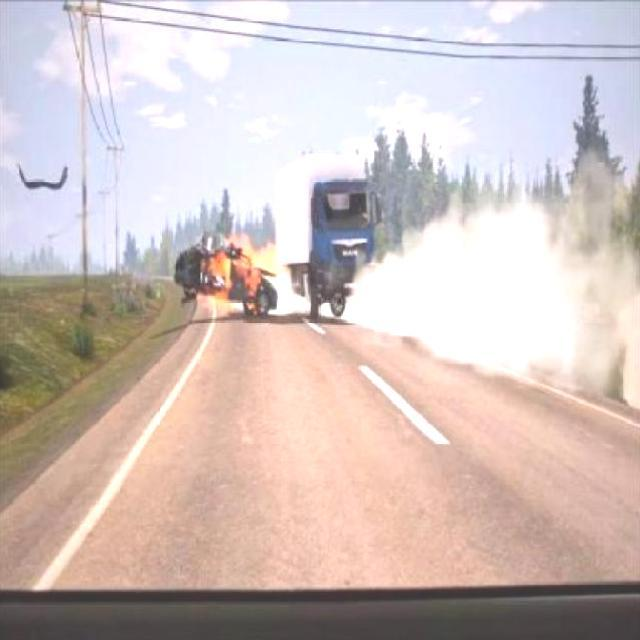accident: (163, 150, 386, 328)
